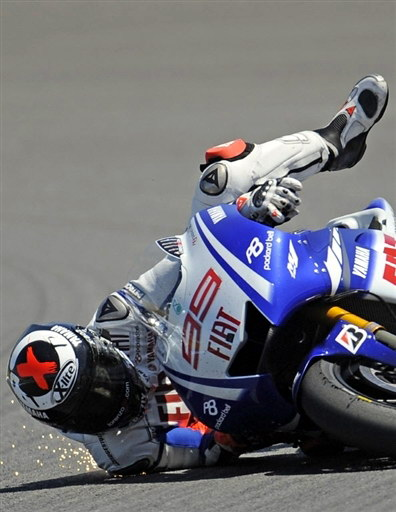fall: (7, 55, 388, 459)
